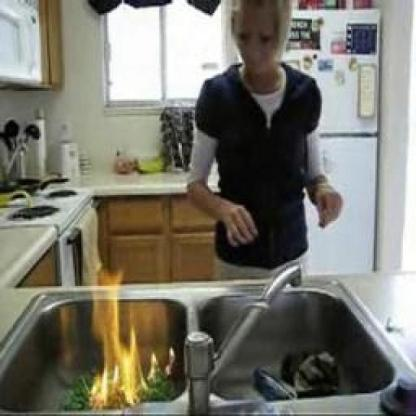fire: (93, 269, 144, 409), (146, 344, 176, 379)
